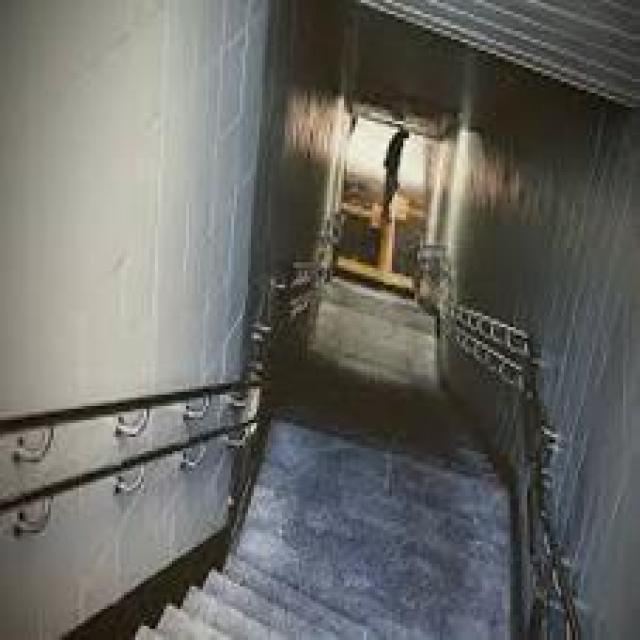downstair: (280, 348, 489, 508)
